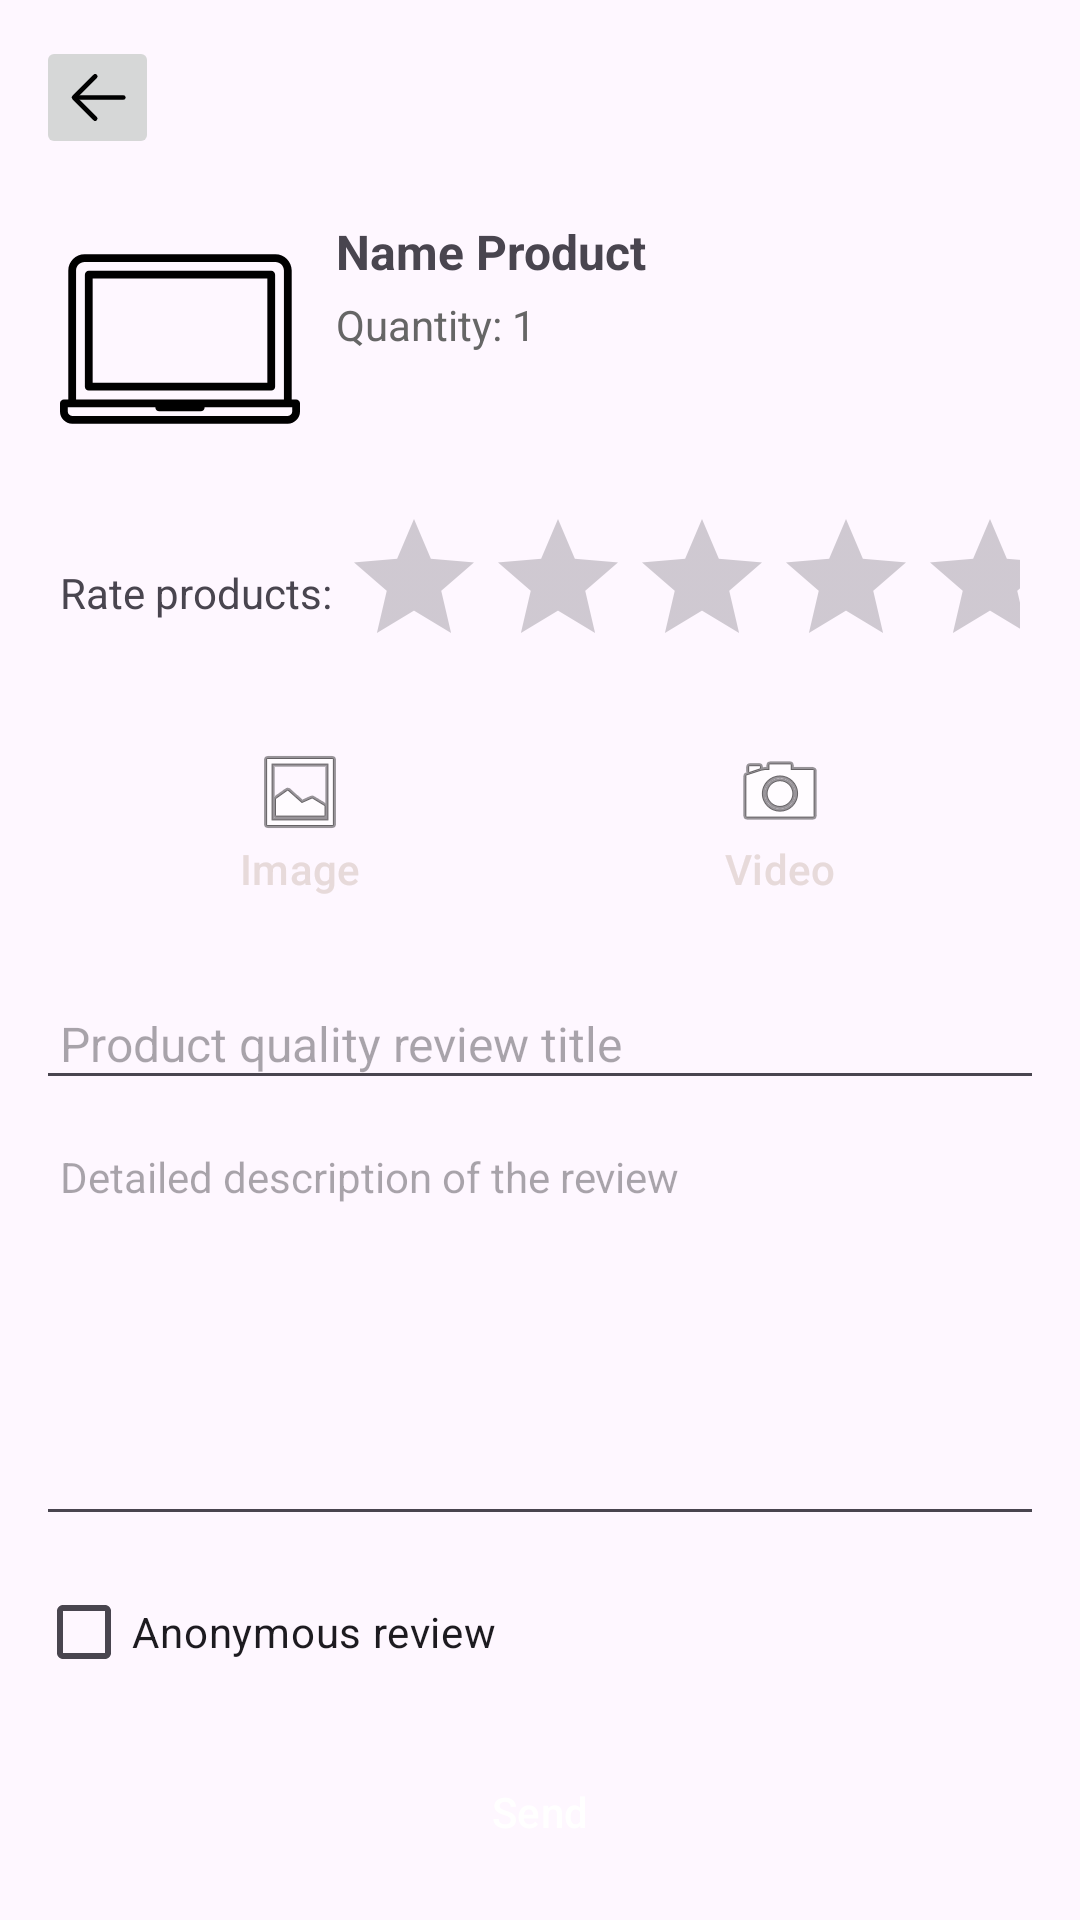

Screen size 1080*1920. Icon name, then its box in pixels as (x1, y1, x2, y2):
back: (48, 54, 147, 141)
Hình ảnh sản phẩm: (60, 254, 300, 424)
